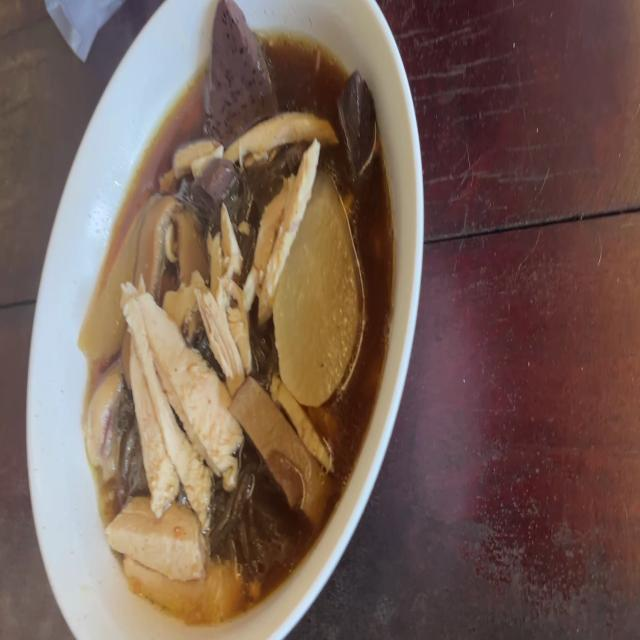boiled_chicken_blood_jelly: (199, 0, 277, 130), (337, 67, 377, 181), (191, 164, 241, 210)
chicken_shredded: (120, 281, 234, 501), (243, 150, 319, 301), (193, 206, 247, 372), (104, 490, 209, 571), (220, 109, 330, 161), (89, 363, 126, 461), (170, 140, 223, 168)
daikon_radish: (290, 204, 354, 390), (82, 205, 142, 362)
noodle: (90, 40, 393, 627)
